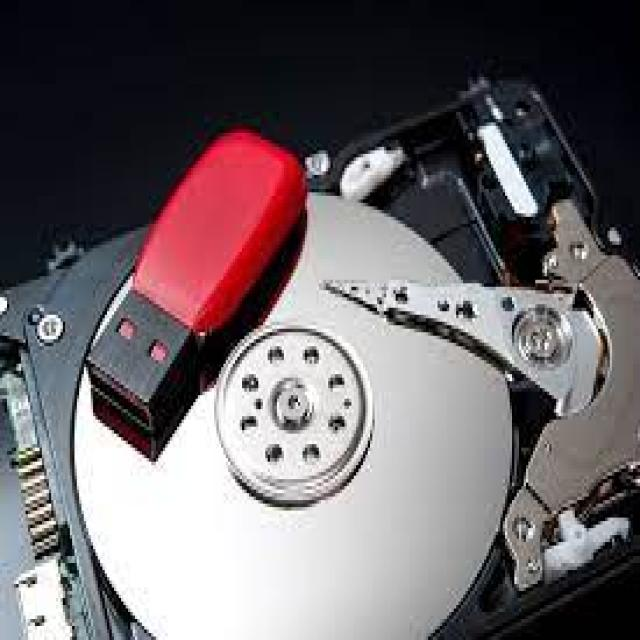Hazard: (0, 81, 640, 640)
